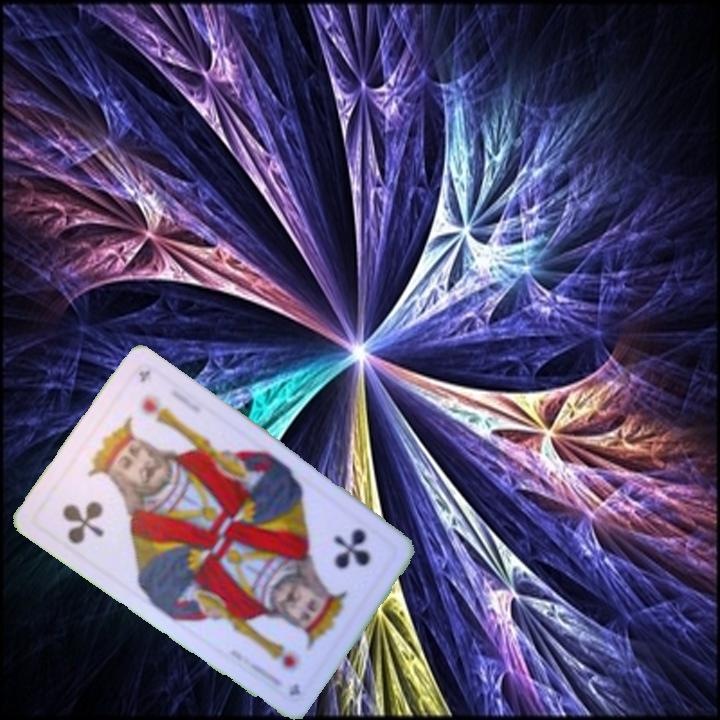c_k.png: (277, 497, 402, 626), (30, 439, 155, 568)
